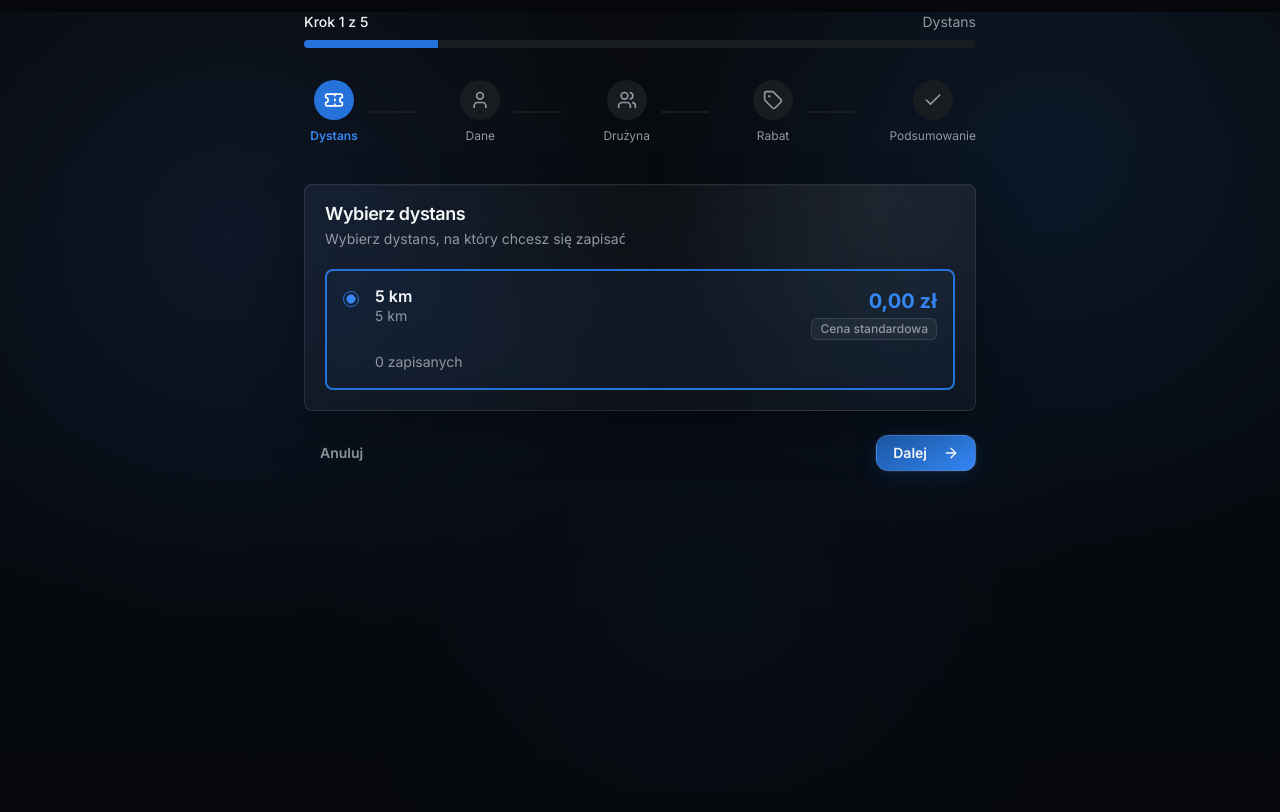
Test: RegistrationForm personal-data step › keeps the guardian's own data for self-registration
The width and height of the screenshot is (1280, 812).
Click the button "Dalej": (926, 453) [876,435,976,471]
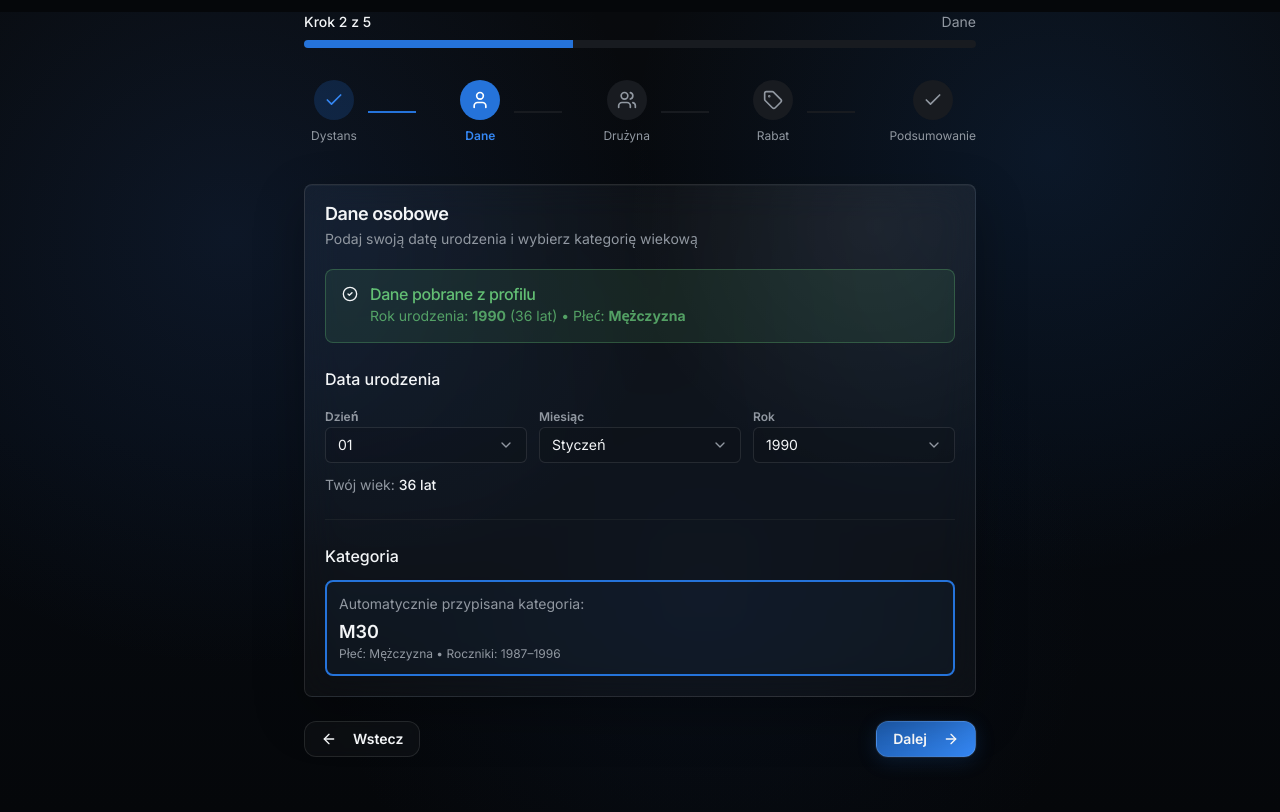
Expected: the heading "Dane osobowe" is shown, [325,203,448,224]
Expected: the text "Dane pobrane z profilu" is shown, [370,284,536,304]
Expected: the text "Rok urodzenia: 1990 (36 lat) • Płeć: Mężczyzna" is shown, [370,307,686,324]
